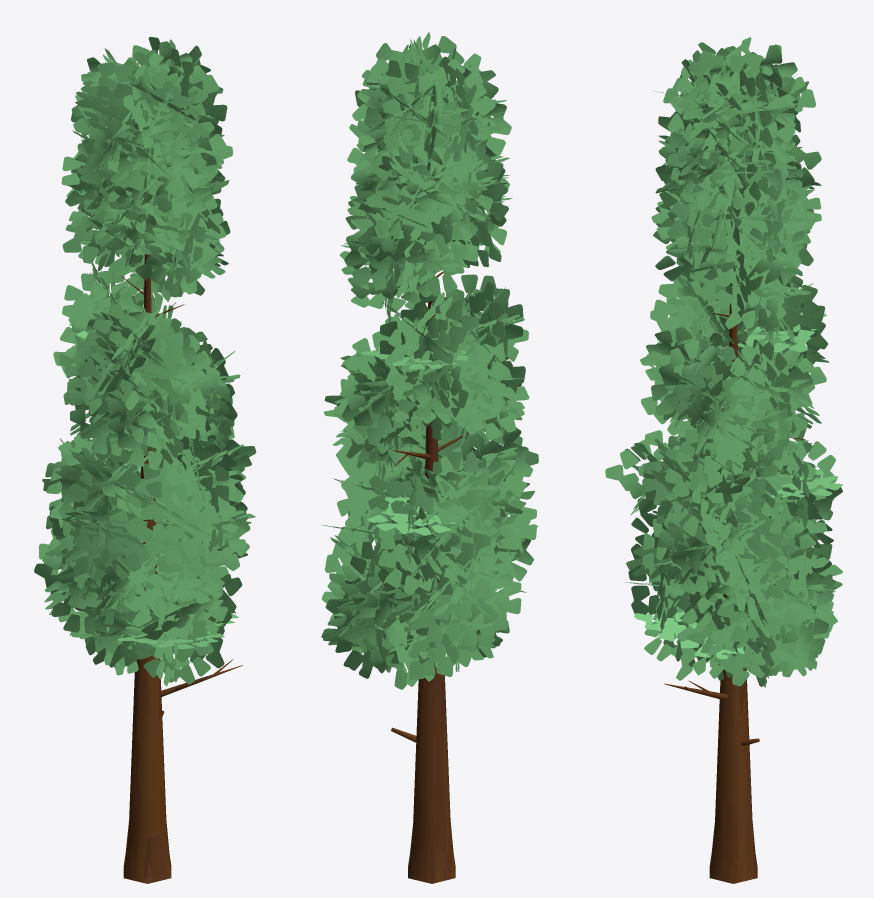
Rendered from STColumnar2.glb.
The picture shows the model from 3 angles, left to right: view 1: azimuth 30°, elevation 25°; view 2: azimuth 150°, elevation 25°; view 3: azimuth 270°, elevation 25°; orthographic projection.
Visible parts, largest first — view 1: VertTree2Leaves; view 2: VertTree2Leaves; view 3: VertTree2Leaves.
Boxes of the visible parts, left/top/right/bottom form: VertTree2Leaves: left=34, top=37, right=256, bottom=883; VertTree2Leaves: left=321, top=32, right=538, bottom=883; VertTree2Leaves: left=605, top=37, right=842, bottom=883.
Bounding box in the file's own units: 4.01 × 14.29 × 4.14.
Materials: 2 (2 with a texture image).
